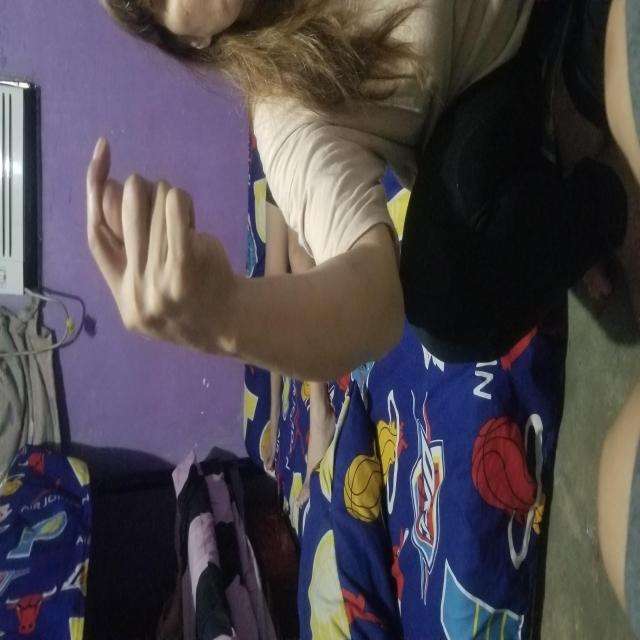T: (300, 84, 503, 231)
